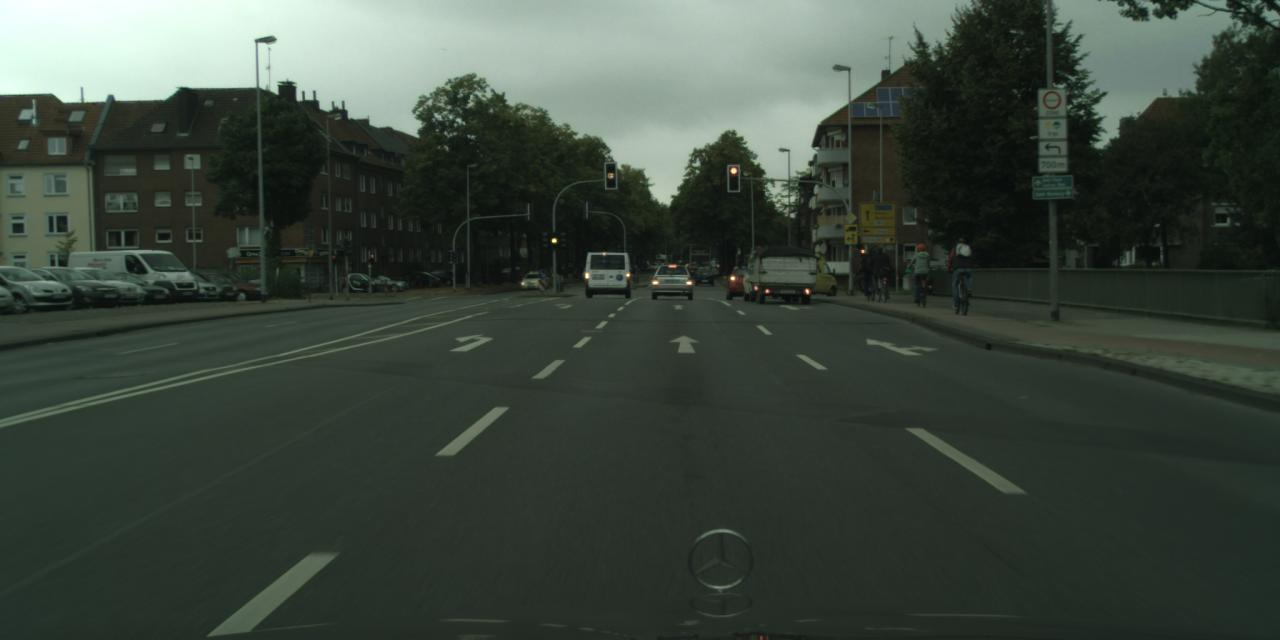ped: (948, 238, 973, 300), (910, 242, 931, 296), (861, 248, 880, 294), (872, 248, 890, 292)
